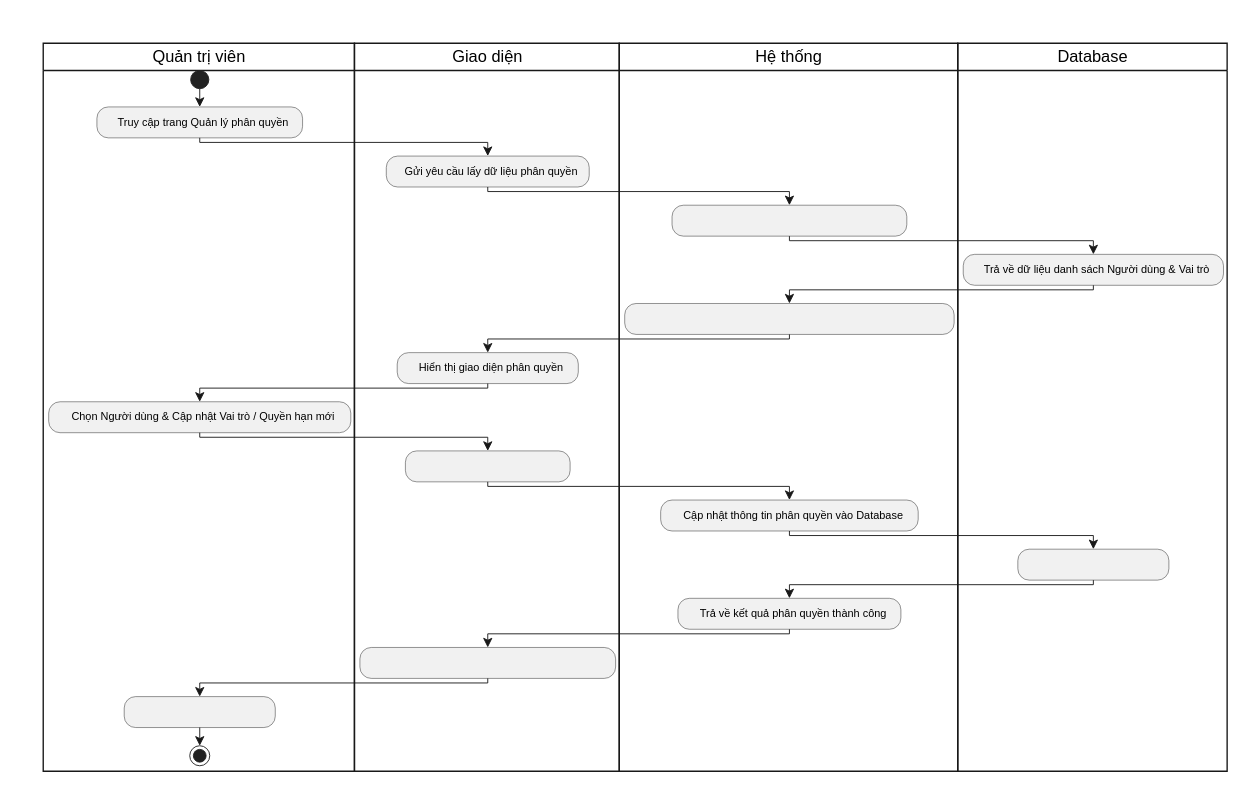
This 1243x787 diagram has some shape labels left out. Each missing label, with the centre of its shape:
Gửi yêu cầu lưu phân quyền: (x=487, y=466)
Hiển thị thông báo "Phân quyền thành công": (x=487, y=662)
Lưu thông tin thành công: (x=1093, y=564)
Nhận thông báo hoàn tất: (x=199, y=711)
Truy vấn danh sách Người dùng & Vai trò: (x=789, y=220)
Trả về danh sách Người dùng & Vai trò (Roles/Permissions): (x=789, y=318)
